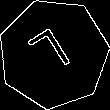L_SE: (27, 24, 80, 83)
